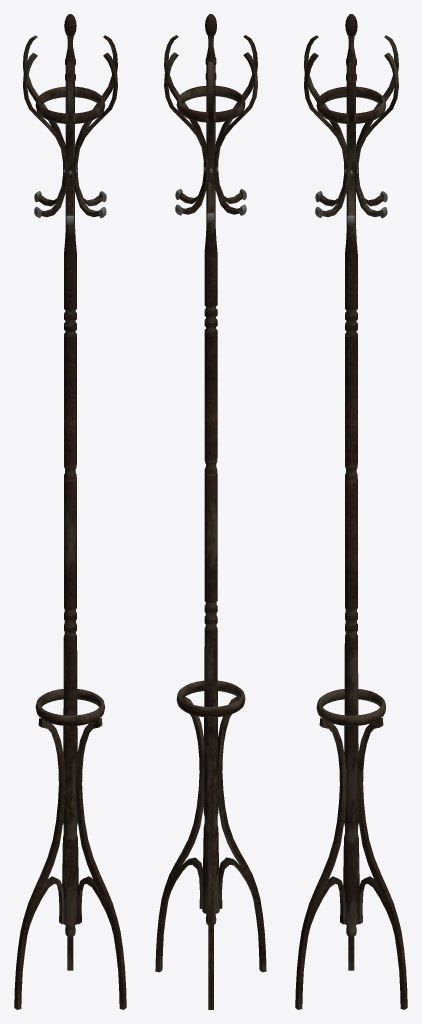
The model's file is coat_rack.glb.
3 views of the same model, side by side, from view 1: azimuth 90°, elevation 25°; view 2: azimuth 150°, elevation 25°; view 3: azimuth 330°, elevation 25° (orthographic).
Parts seen in each view (by area): view 1: Beam.001, Legs.001, Hangers.001; view 2: Beam.001, Legs.001, Hangers.001; view 3: Beam.001, Legs.001, Hangers.001.
Part boxes in pixels (x1,y1,x2,y2): Beam.001: (35,14,105,936); Legs.001: (14,718,126,1009); Hangers.001: (23,35,117,225); Beam.001: (176,14,245,924); Legs.001: (155,696,266,1009); Hangers.001: (164,35,257,222); Beam.001: (316,14,385,936); Legs.001: (295,718,407,1009); Hangers.001: (304,35,398,225).
Size of the model in its own units: 9.44 by 87.6 by 9.1.
1 material, 1 textured.
